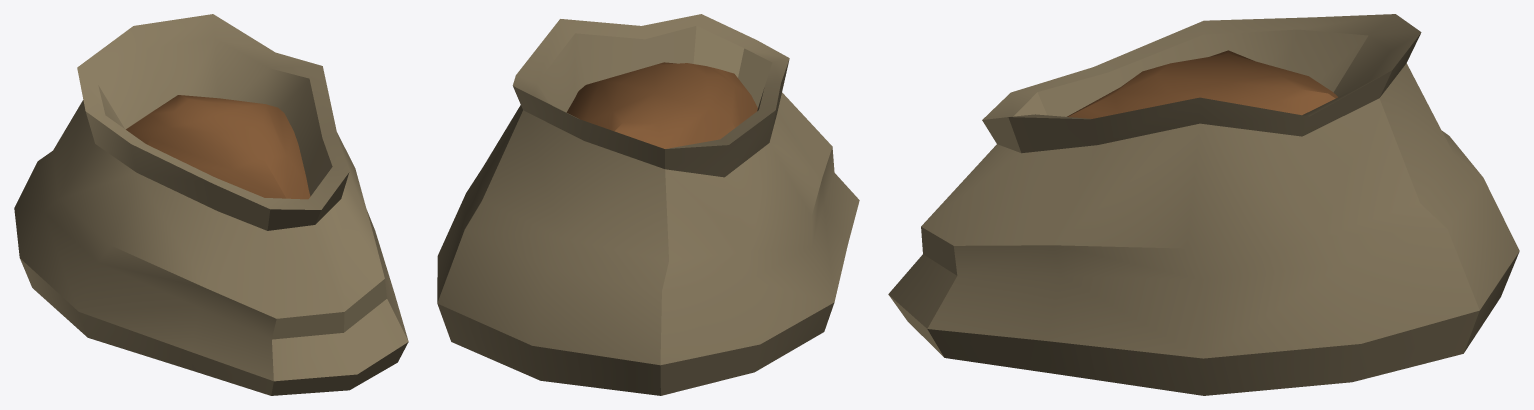
The model's file is SeedBag.fbx.
The picture shows the model from 3 angles, left to right: view 1: azimuth 30°, elevation 25°; view 2: azimuth 150°, elevation 25°; view 3: azimuth 270°, elevation 25°; orthographic projection. The views are drawn at different scales.
Visible parts, largest first — view 1: Bag_Open; view 2: Bag_Open; view 3: Bag_Open.
Boxes of the visible parts, <box> form: Bag_Open: <box>14,14,408,395</box>; Bag_Open: <box>437,14,859,395</box>; Bag_Open: <box>888,14,1519,395</box>.
Size of the model in its own units: 14.02 by 10.72 by 20.35.
